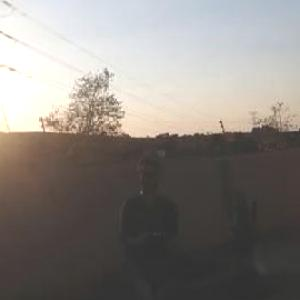follow: (113, 145, 187, 299)
